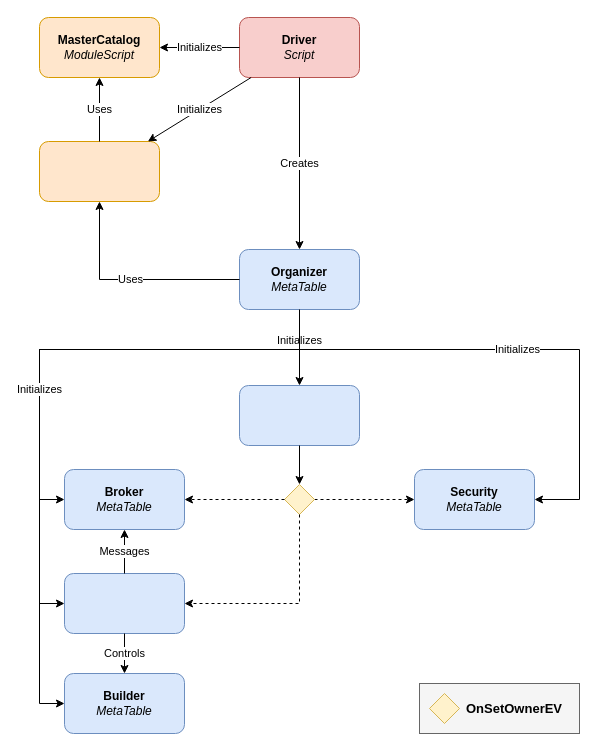
This 605x751 diagram has some shape labels left out. Here are the shapes that lost their labels. From the top down, the centre of each, then its label:
At (99,171): "Cataloger ModuleScript".
At (299,415): "Gatekeeper MetaTable".
At (124,603): "Vendor MetaTable".
